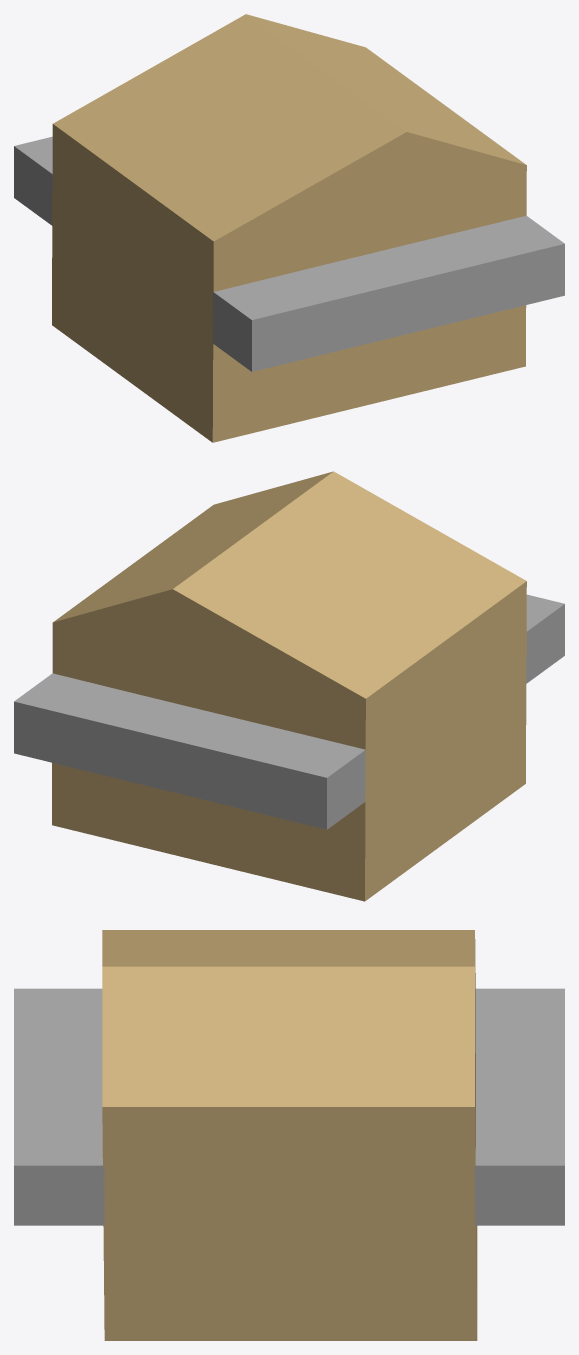
The model's file is Building9_colider.fbx.
3 renders of one model, top to bottom at view 1: azimuth 30°, elevation 25°; view 2: azimuth 150°, elevation 25°; view 3: azimuth 270°, elevation 25°, orthographic. The views are drawn at different scales.
Visible parts, largest first — view 1: Building9_colider; view 2: Building9_colider; view 3: Building9_colider.
Boxes of the visible parts, x1,y1,x2,y2 form: Building9_colider: (14, 14, 564, 442); Building9_colider: (14, 471, 564, 901); Building9_colider: (14, 930, 564, 1340).
Bounding box in the file's own units: 528 × 427 × 695.
